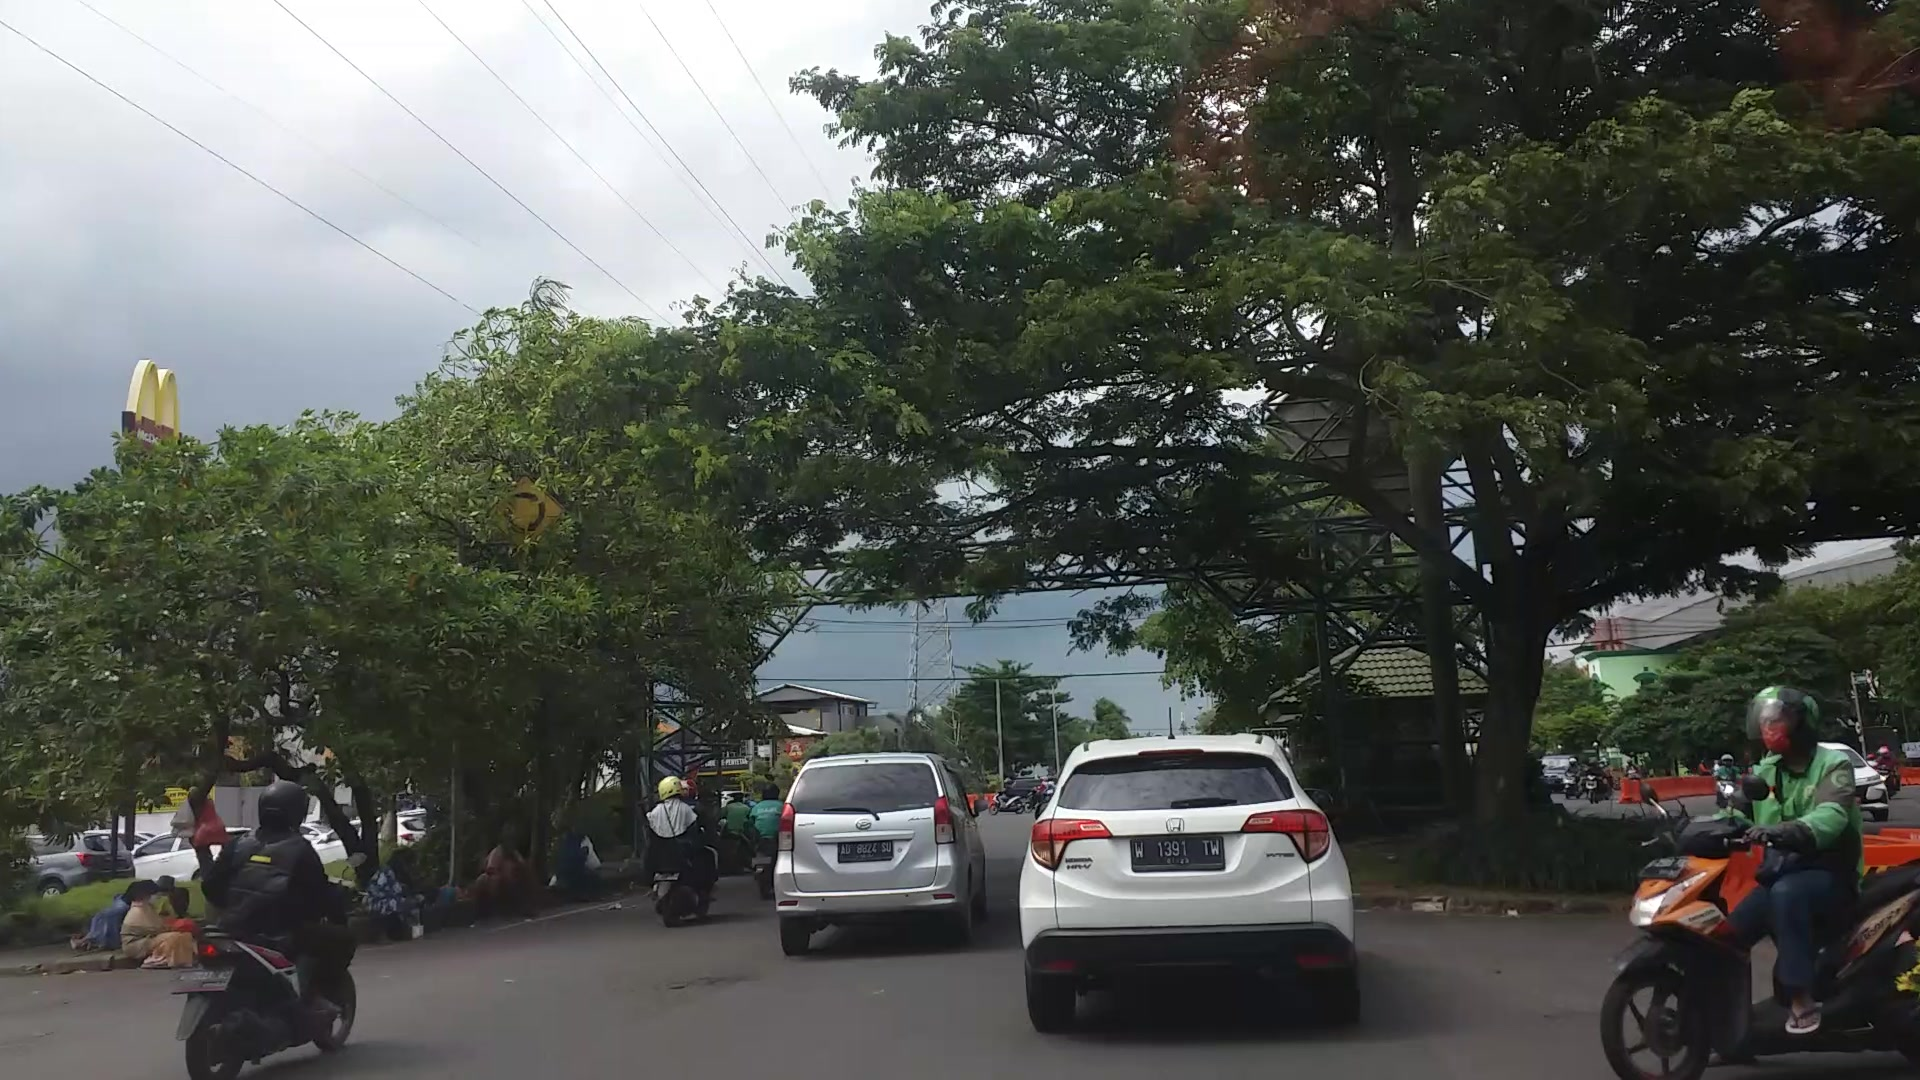plate_positive: (1130, 836, 1225, 872), (836, 843, 893, 862)
